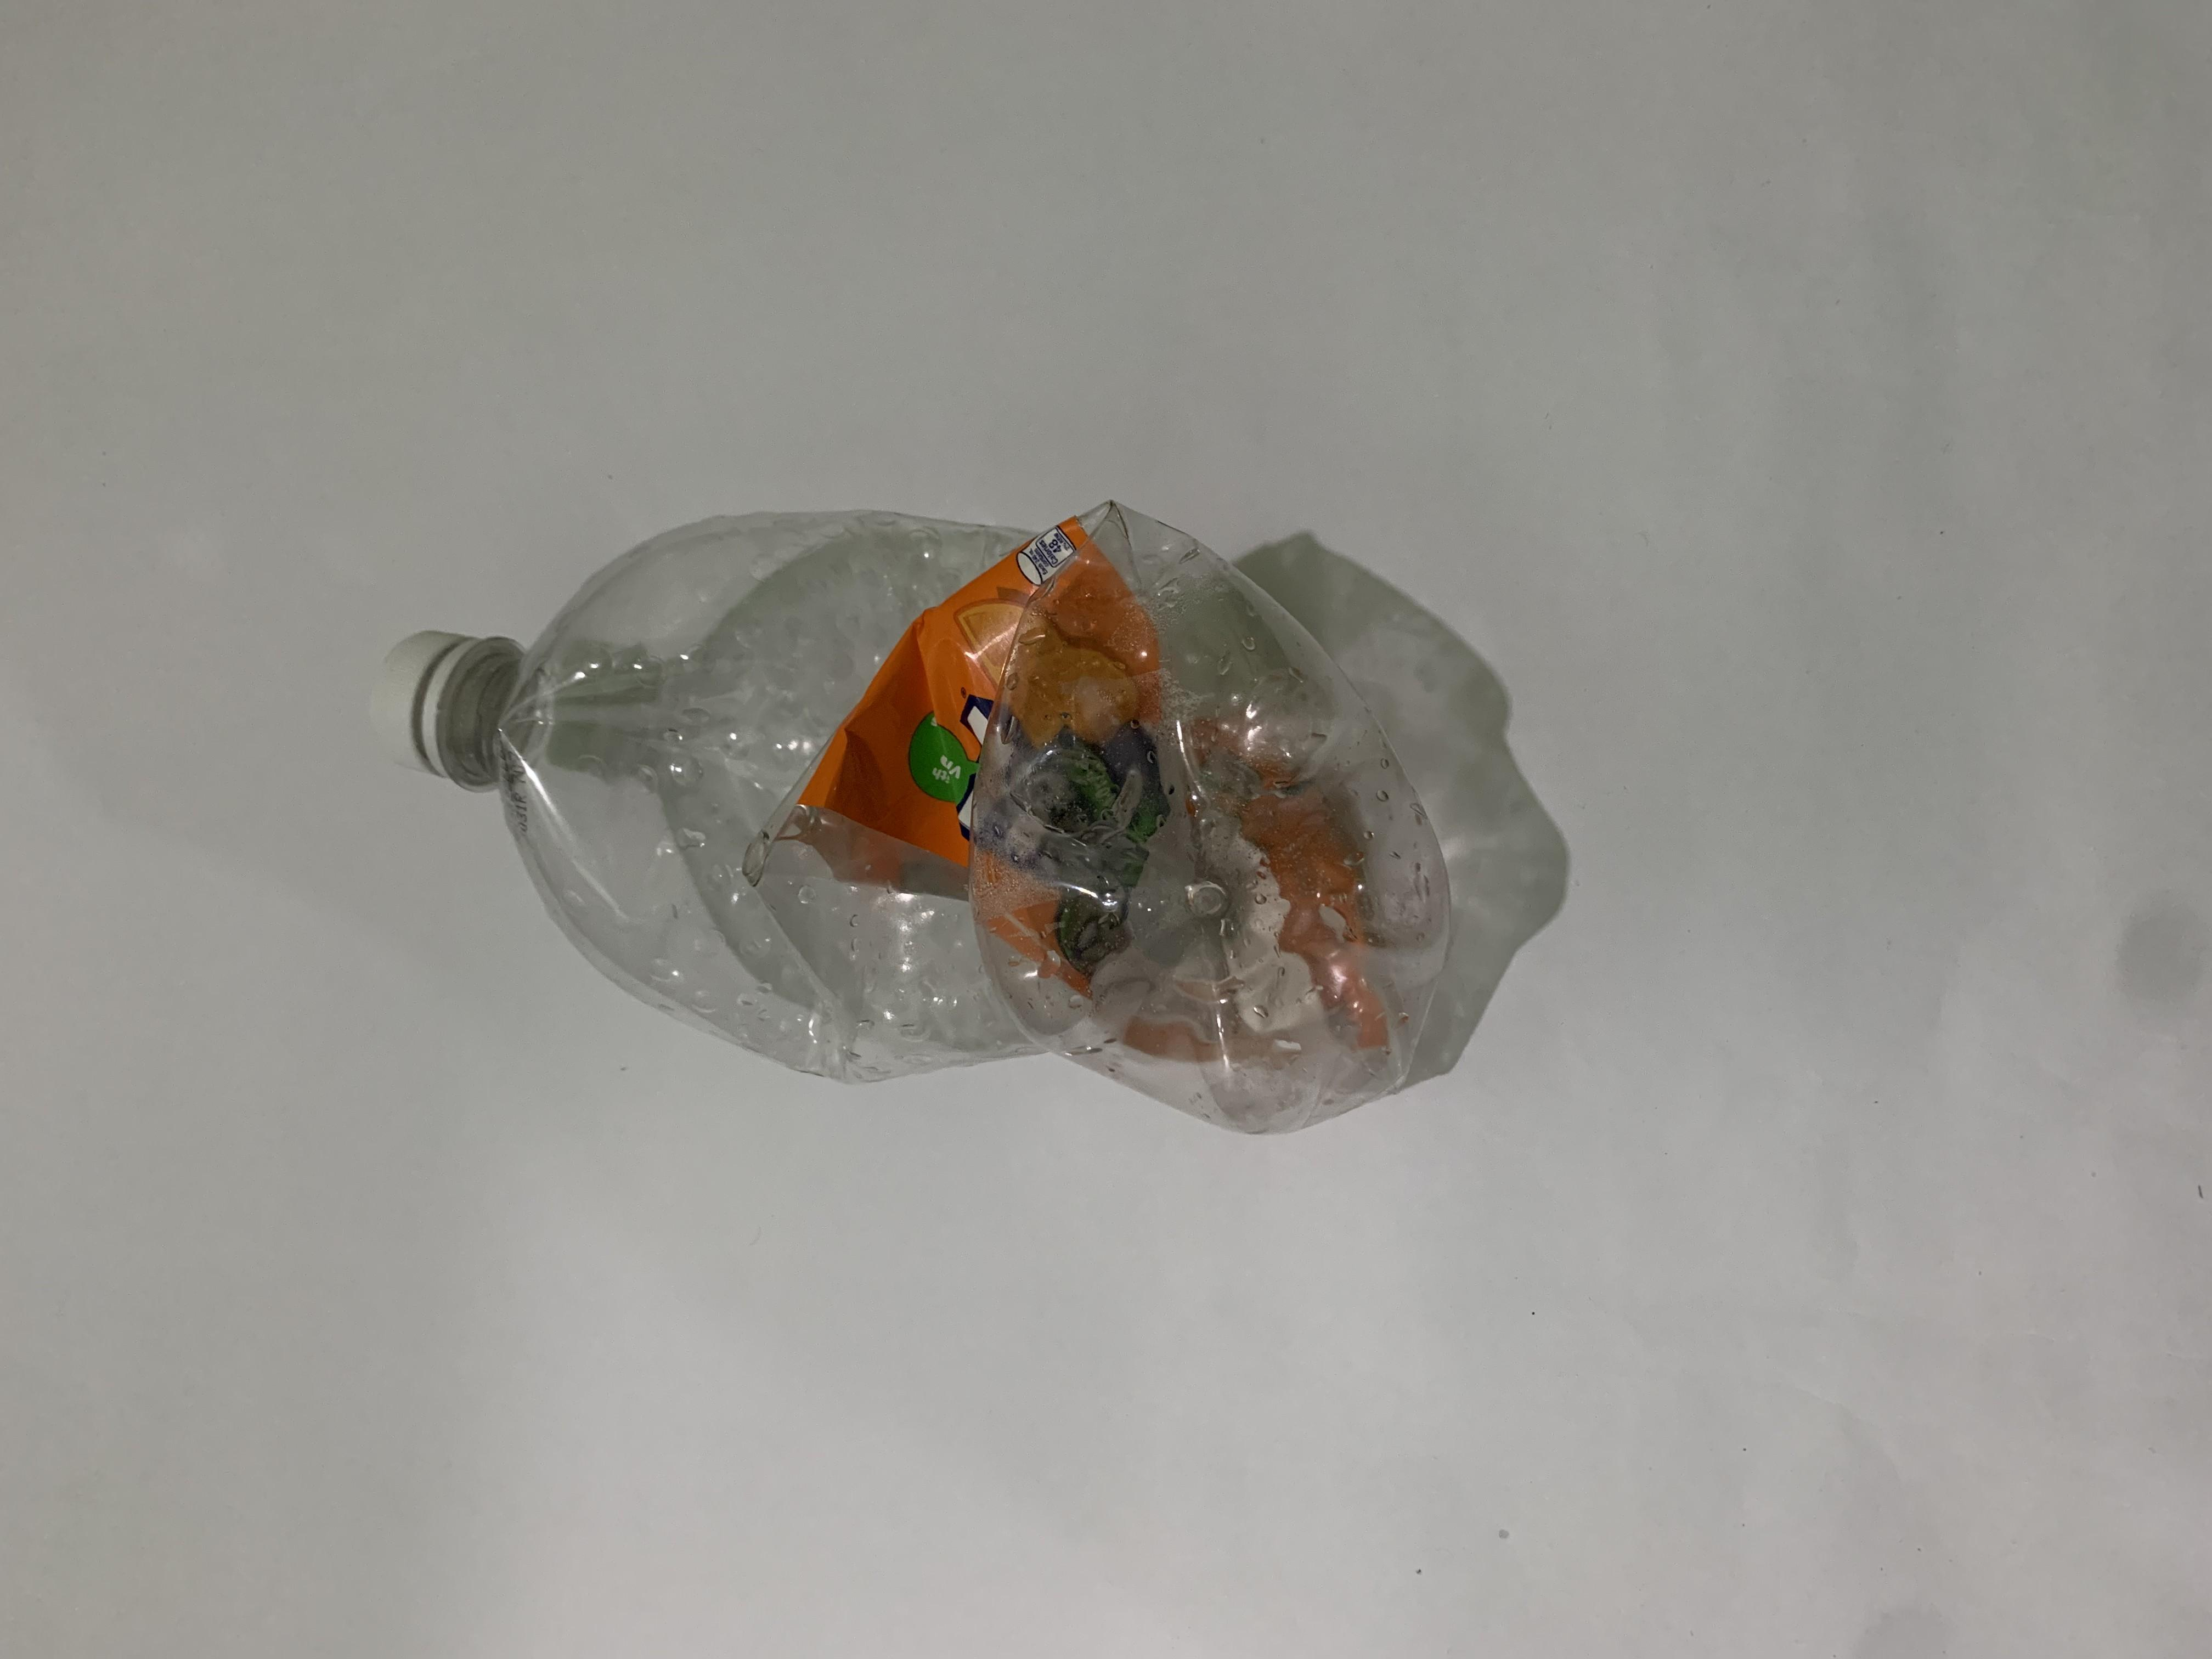bottle: (0, 678, 441, 683)
